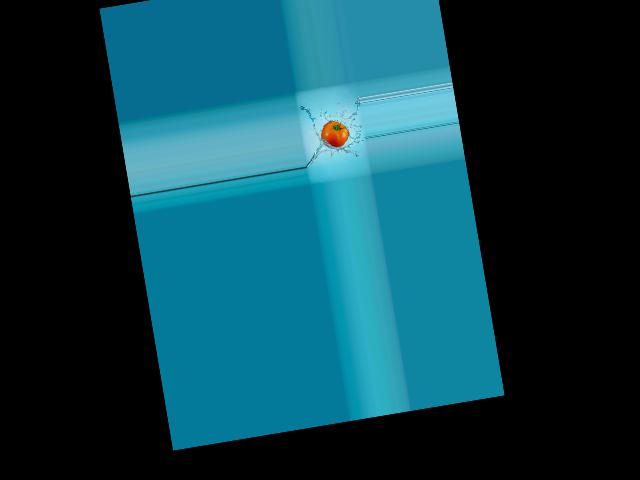tomato: (319, 119, 351, 150)
